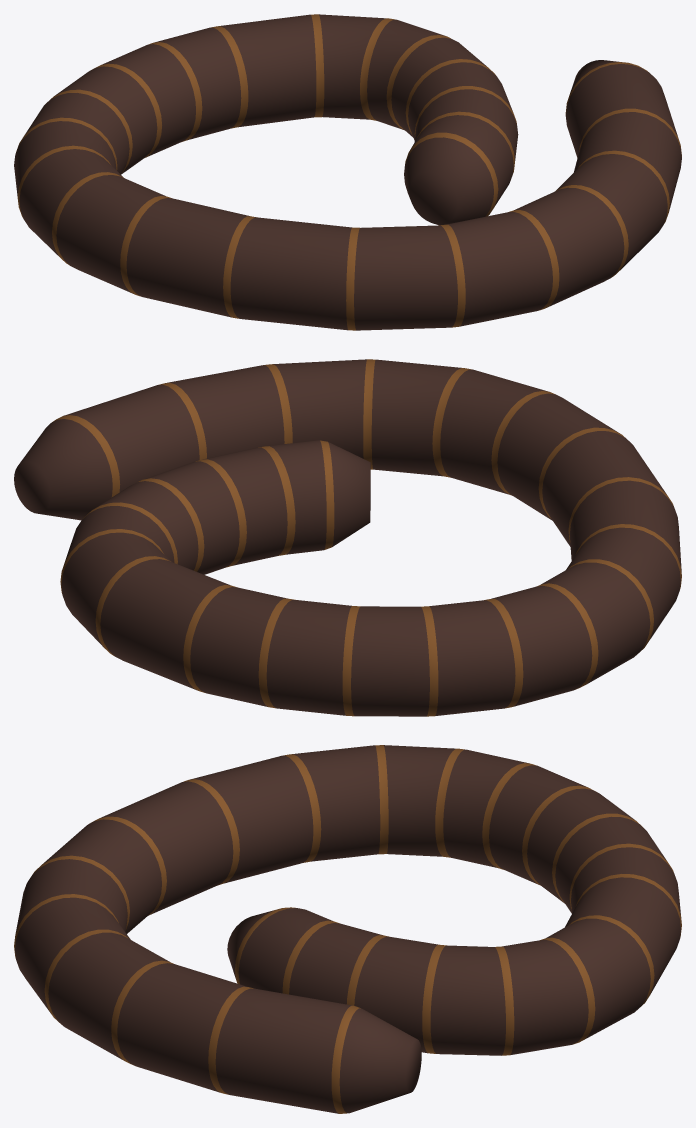
The model's file is noraegi.glb.
3 renders of one model, top to bottom at view 1: azimuth 30°, elevation 25°; view 2: azimuth 150°, elevation 25°; view 3: azimuth 270°, elevation 25°, orthographic. The views are drawn at different scales.
Visible parts, largest first — view 1: BézierCurve; view 2: BézierCurve; view 3: BézierCurve.
Boxes of the visible parts, x1,y1,x2,y2 form: BézierCurve: (14,14,681,330); BézierCurve: (14,359,681,716); BézierCurve: (14,745,681,1113).
Bounding box in the file's own units: 0.2803 × 0.0422 × 0.2586.
